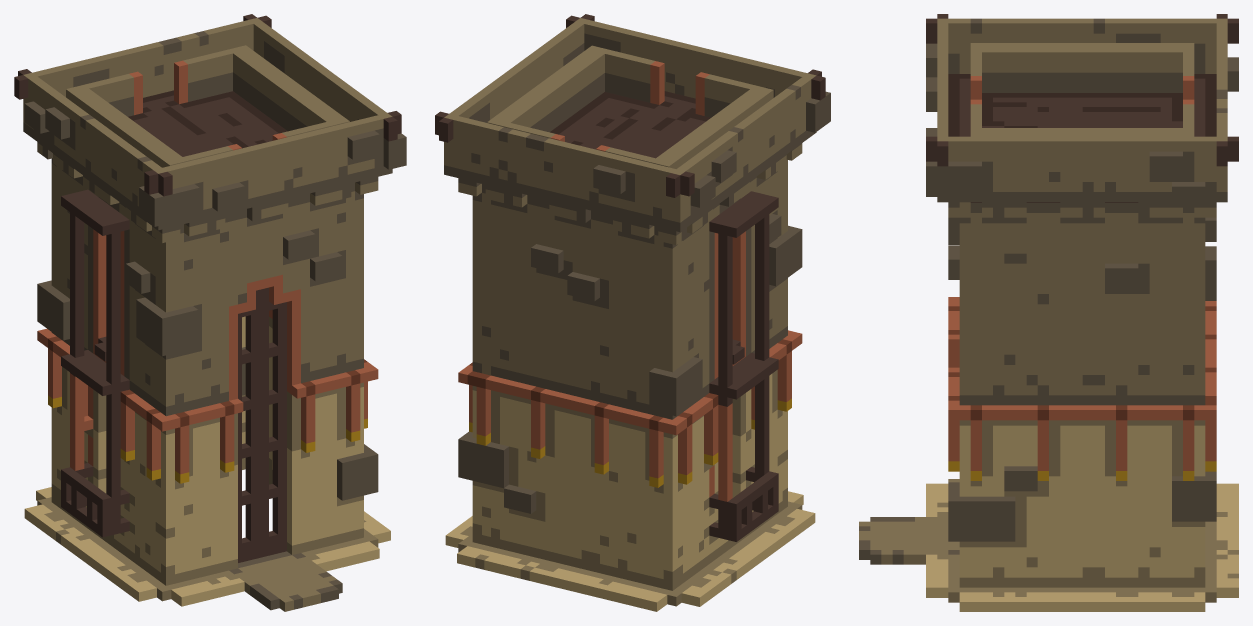
Rendered from adobe_smallbuilding01.obj.
The picture shows the model from 3 angles, left to right: view 1: azimuth 30°, elevation 25°; view 2: azimuth 150°, elevation 25°; view 3: azimuth 270°, elevation 25°; orthographic projection. The views are drawn at different scales.
Bounding box in the file's own units: 2.8 × 4.6 × 3.4.
Materials: 1 (1 with a texture image).
